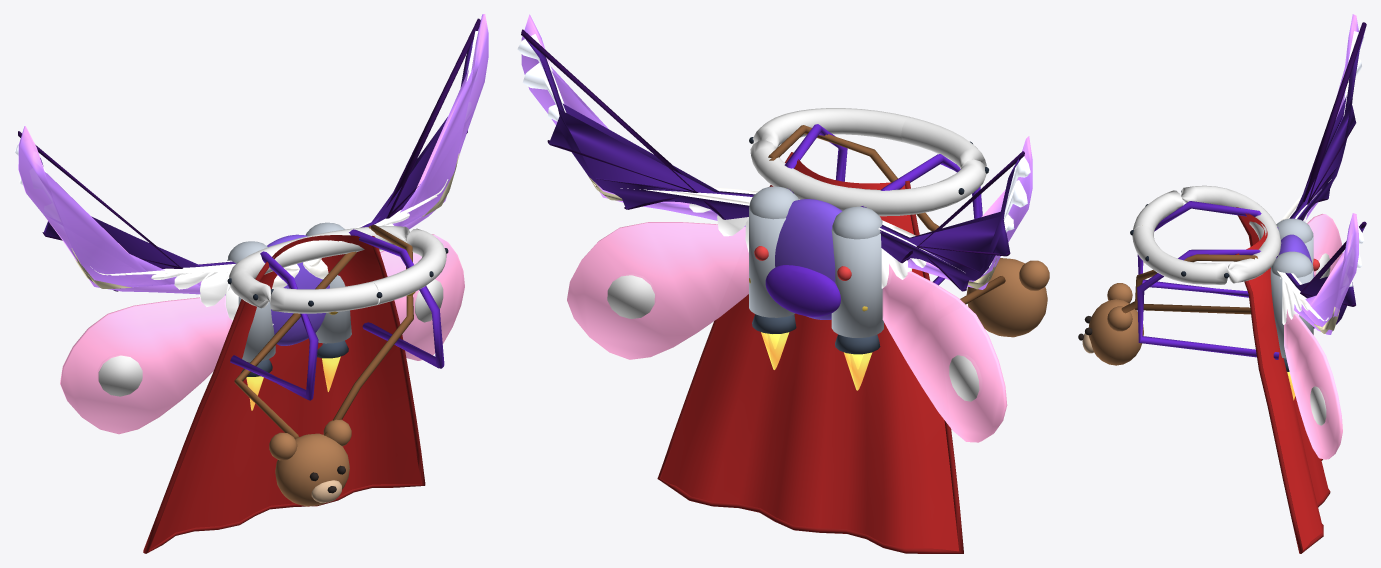
The model's file is props-w.glb.
3 renders of one model, left to right at view 1: azimuth 30°, elevation 25°; view 2: azimuth 150°, elevation 25°; view 3: azimuth 270°, elevation 25°, orthographic. The views are drawn at different scales.
Visible parts, largest first — view 1: w-cape~swing, w-butterfly~flapR, w-champ, w-butterfly~flapL, w-bear, w-jetpack~pack, w-bag, w-batwing~flapL, w-angel~flapR, w-batwing~flapR, w-bag~pack, w-angel~flapL; view 2: w-cape~swing, w-butterfly~flapL, w-butterfly~flapR, w-jetpack~pack, w-champ, w-batwing~flapL, w-bag~pack, w-bear, w-batwing~flapR, w-angel~flapL, w-bag, w-angel~flapR; view 3: w-cape~swing, w-butterfly~flapL, w-champ, w-bear, w-batwing~flapR, w-bag, w-jetpack~pack, w-butterfly~flapR, w-angel~flapL, w-batwing~flapL, w-angel~flapR, w-bag~pack.
Part boxes in pixels (x1,y1,x2,y2): w-cape~swing: [143, 235, 425, 553]; w-butterfly~flapR: [18, 126, 232, 434]; w-champ: [227, 226, 448, 313]; w-butterfly~flapL: [380, 14, 488, 360]; w-bear: [234, 224, 413, 506]; w-jetpack~pack: [227, 222, 351, 410]; w-bag: [230, 229, 444, 400]; w-batwing~flapL: [360, 18, 480, 227]; w-angel~flapR: [14, 144, 299, 325]; w-batwing~flapR: [18, 131, 236, 291]; w-bag~pack: [267, 234, 329, 345]; w-angel~flapL: [303, 31, 478, 279]; w-cape~swing: [657, 152, 963, 553]; w-butterfly~flapL: [521, 14, 748, 359]; w-butterfly~flapR: [882, 136, 1032, 442]; w-jetpack~pack: [749, 186, 883, 390]; w-champ: [749, 108, 988, 216]; w-batwing~flapL: [521, 29, 754, 219]; w-bag~pack: [749, 199, 867, 319]; w-bear: [768, 125, 1049, 337]; w-batwing~flapR: [880, 151, 1024, 291]; w-angel~flapL: [517, 34, 799, 252]; w-bag: [784, 124, 982, 285]; w-angel~flapR: [878, 156, 1030, 288]; w-cape~swing: [1235, 207, 1330, 553]; w-butterfly~flapL: [1284, 213, 1358, 459]; w-champ: [1130, 185, 1281, 284]; w-bear: [1078, 254, 1257, 365]; w-batwing~flapR: [1289, 22, 1366, 220]; w-bag: [1137, 201, 1279, 359]; w-jetpack~pack: [1270, 218, 1319, 400]; w-butterfly~flapR: [1304, 14, 1358, 278]; w-angel~flapL: [1277, 226, 1364, 324]; w-batwing~flapL: [1285, 221, 1366, 324]; w-angel~flapR: [1281, 31, 1364, 221]; w-bag~pack: [1278, 234, 1314, 328].
Size of the model in its own units: 0.7614 by 0.6629 by 0.455.
